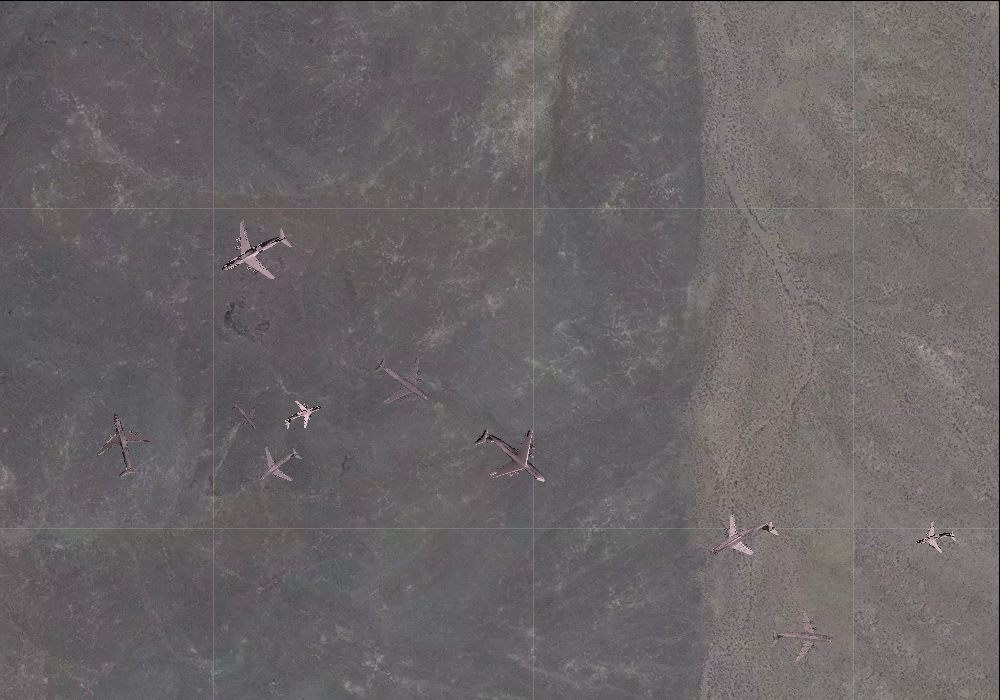plane: (457, 403, 566, 511), (205, 204, 304, 301), (696, 496, 788, 584), (360, 339, 446, 424), (83, 406, 159, 484), (767, 605, 838, 672), (243, 432, 312, 500), (278, 392, 327, 438), (912, 516, 960, 562), (223, 395, 266, 439)
